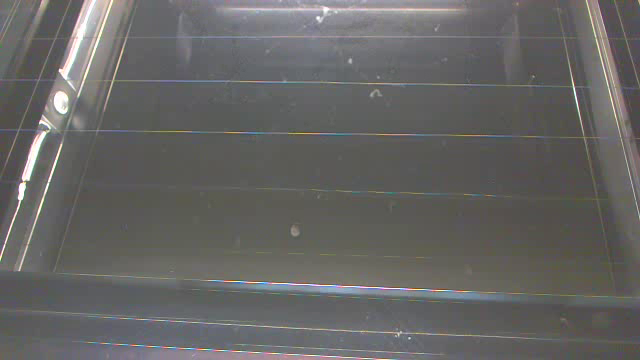alpha: (455, 257, 483, 281), (378, 194, 405, 216), (287, 219, 306, 242)
